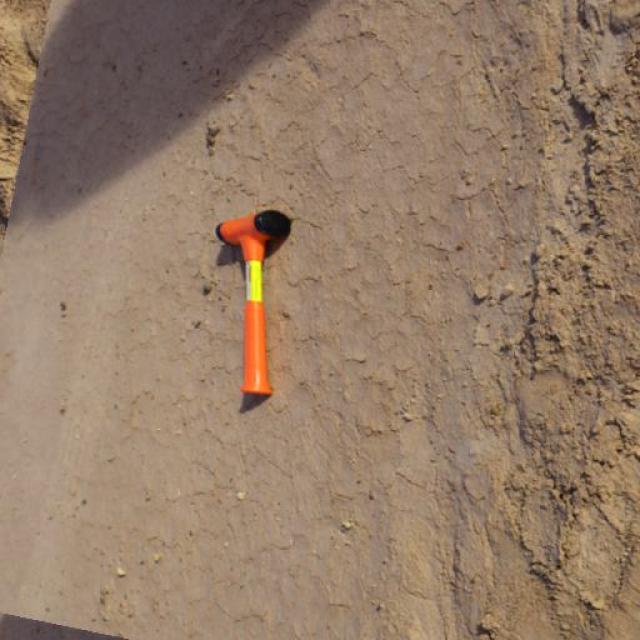mallet: (216, 208, 295, 396)
